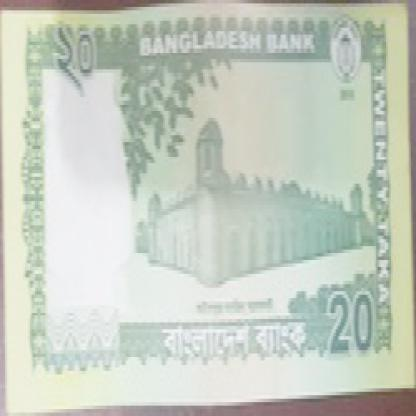Twenty: (314, 278, 384, 374), (45, 28, 116, 94)
